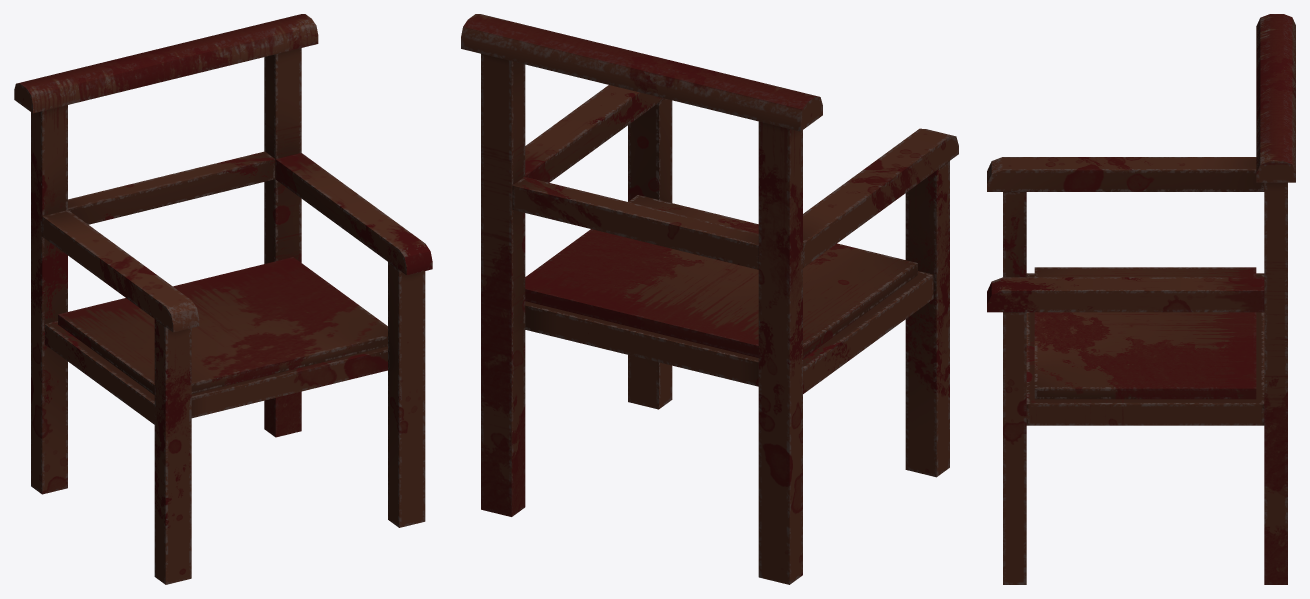
Rendered from chair.fbx.
3 renders of one model, left to right at view 1: azimuth 30°, elevation 25°; view 2: azimuth 150°, elevation 25°; view 3: azimuth 270°, elevation 25°, orthographic. The views are drawn at different scales.
Visible parts, largest first — view 1: chair_low; view 2: chair_low; view 3: chair_low.
Boxes of the visible parts, box(x1,y1,x2,y2) form: chair_low: box(14, 14, 432, 584); chair_low: box(461, 14, 958, 584); chair_low: box(987, 14, 1295, 584).
Bounding box in the file's own units: 88 × 120 × 78.
